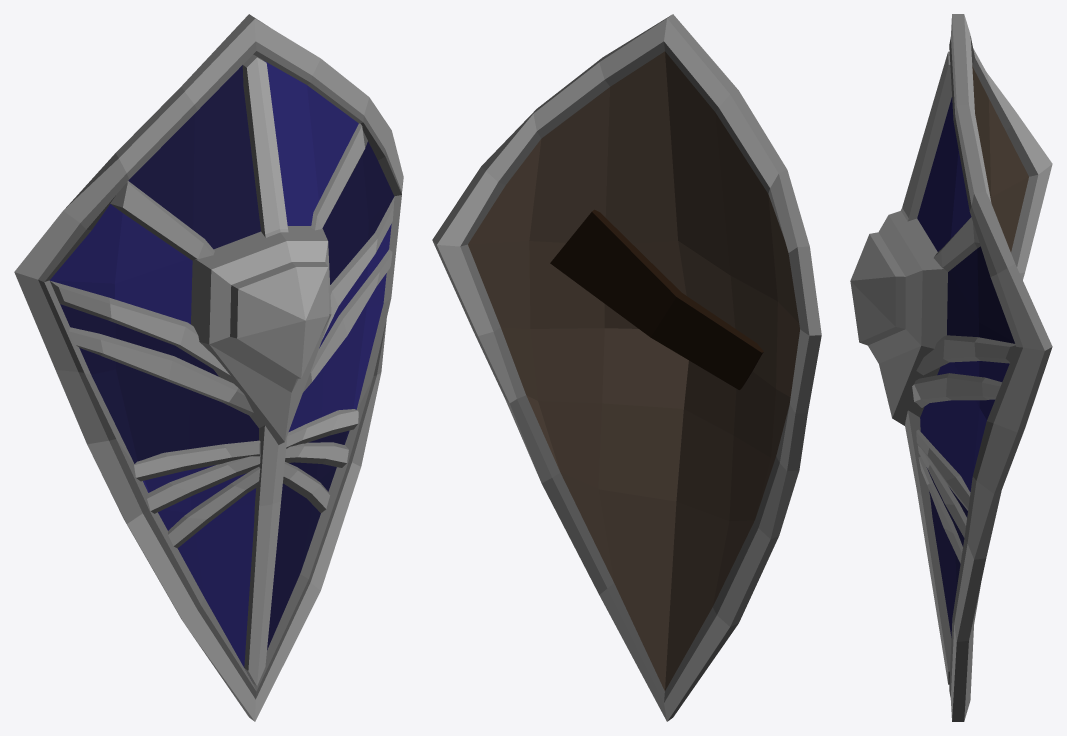
Rendered from Shield_F_AD_010.fbx.
3 renders of one model, left to right at view 1: azimuth 30°, elevation 25°; view 2: azimuth 150°, elevation 25°; view 3: azimuth 270°, elevation 25°, orthographic.
Parts seen in each view (by area): view 1: Shield_F_AD_010; view 2: Shield_F_AD_010; view 3: Shield_F_AD_010.
Boxes of the visible parts, x1,y1,x2,y2 form: Shield_F_AD_010: (14, 14, 403, 721); Shield_F_AD_010: (432, 14, 821, 721); Shield_F_AD_010: (850, 14, 1052, 721).
Size of the model in its own units: 0.7585 by 1.31 by 0.339.
